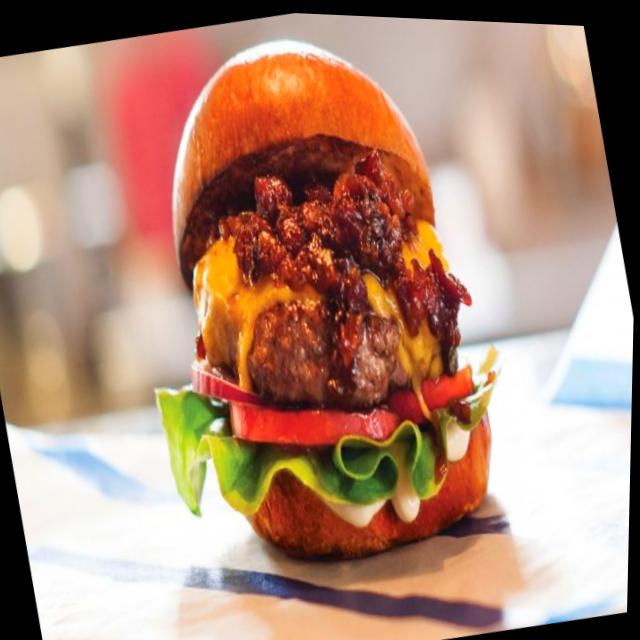burger: (122, 5, 529, 585)
